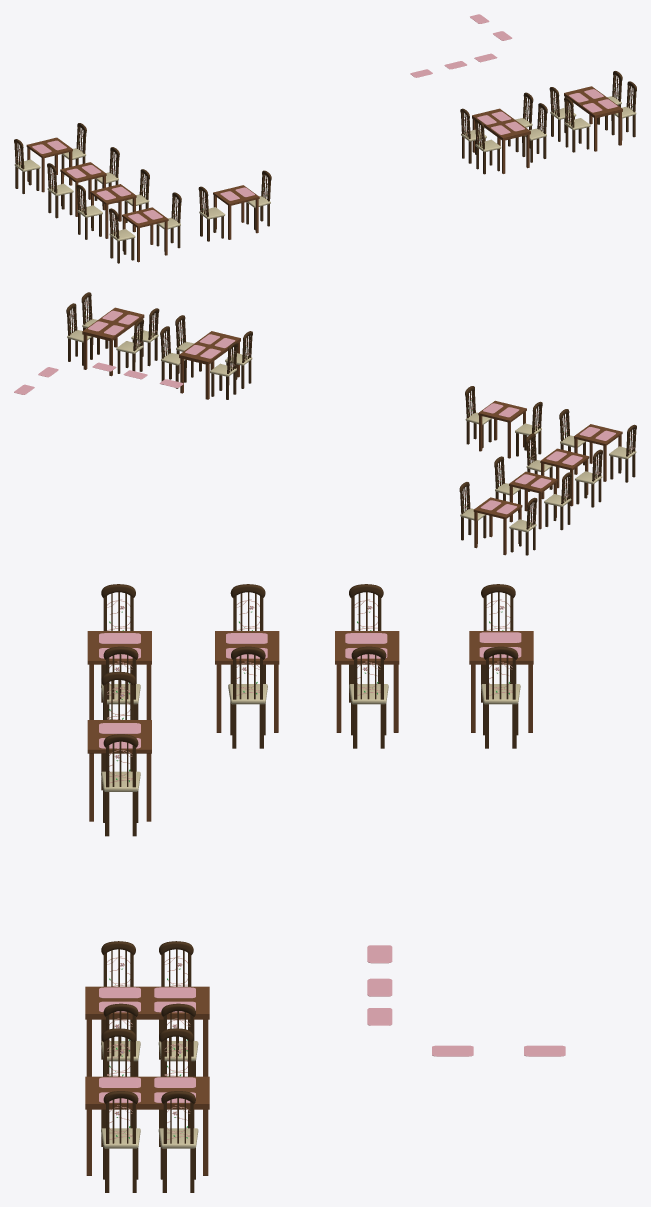
The model's file is restaurant_seats.fbx.
The picture shows the model from 3 angles, top to bottom: view 1: azimuth 30°, elevation 25°; view 2: azimuth 150°, elevation 25°; view 3: azimuth 270°, elevation 25°; orthographic projection. The views are drawn at different scales.
Visible parts, largest first — view 1: Cube.011, Cube.057, Cube.142, Cube.061, Cube.126, Cube.120, Cube.045, Cube.115, Cube.023, Cube.046, Cube.109, Cube.123 (+13 smaller); view 2: Cube.011, Cube.057, Cube.142, Cube.126, Cube.123, Cube.061, Cube.023, Cube.025, Cube.045, Cube.120, Cube.113, Cube.117 (+13 smaller); view 3: Cube.057, Cube.011, Cube.149, Cube.114, Cube.107, Cube.016, Cube.123, Cube.108, Cube.116, Cube.120, Cube.126, Cube.142 (+13 smaller).
Boxes of the visible parts, x1,y1,x2,y2 form: Cube.011: [472, 108, 530, 173]; Cube.057: [564, 86, 622, 151]; Cube.142: [213, 185, 259, 239]; Cube.061: [122, 207, 168, 262]; Cube.126: [26, 137, 72, 192]; Cube.120: [90, 184, 136, 238]; Cube.045: [47, 163, 73, 218]; Cube.115: [564, 97, 590, 152]; Cube.023: [109, 208, 135, 263]; Cube.046: [14, 139, 40, 193]; Cube.109: [522, 103, 547, 162]; Cube.123: [60, 162, 106, 216]; Cube.011: [179, 331, 240, 399]; Cube.057: [82, 307, 144, 376]; Cube.142: [478, 400, 526, 458]; Cube.126: [473, 497, 522, 555]; Cube.123: [509, 471, 557, 529]; Cube.061: [574, 424, 622, 481]; Cube.023: [609, 424, 636, 482]; Cube.025: [575, 449, 602, 507]; Cube.045: [544, 472, 571, 530]; Cube.120: [540, 448, 589, 506]; Cube.113: [210, 342, 237, 399]; Cube.117: [116, 319, 143, 373]; Cube.057: [85, 1076, 209, 1175]; Cube.011: [85, 986, 209, 1076]; Cube.149: [101, 734, 140, 836]; Cube.114: [101, 1091, 140, 1192]; Cube.107: [349, 646, 388, 748]; Cube.016: [228, 646, 267, 748]; Cube.123: [335, 631, 399, 732]; Cube.108: [481, 646, 520, 748]; Cube.116: [158, 1091, 198, 1192]; Cube.120: [215, 631, 279, 732]; Cube.126: [469, 631, 533, 732]; Cube.142: [87, 720, 151, 821].
Size of the model in its own units: 1136 by 107 by 453.
